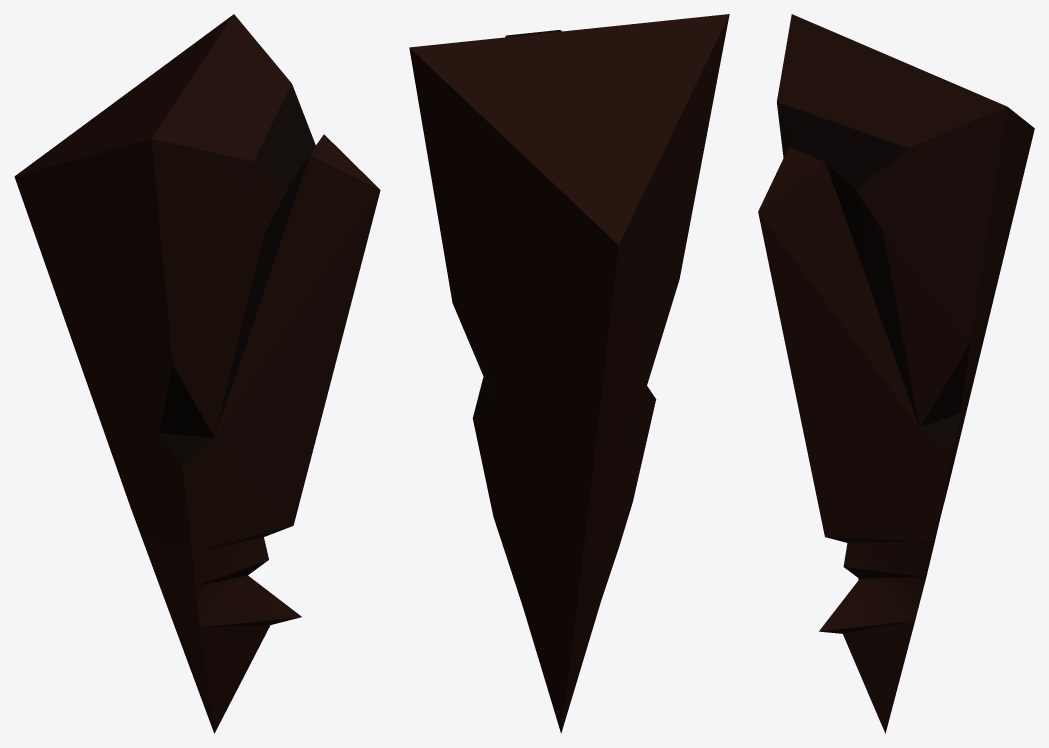
File: Rancor_Asset_Projectile.fbx
The picture shows the model from 3 angles, left to right: view 1: azimuth 30°, elevation 25°; view 2: azimuth 150°, elevation 25°; view 3: azimuth 270°, elevation 25°; orthographic projection. The views are drawn at different scales.
Visible parts, largest first — view 1: Rancor_Spike; view 2: Rancor_Spike; view 3: Rancor_Spike.
Boxes of the visible parts, x1,y1,x2,y2 form: Rancor_Spike: (14,14,380,733); Rancor_Spike: (409,14,729,733); Rancor_Spike: (758,14,1034,733).
Bounding box in the file's own units: 0.7091 × 1.93 × 0.7278.
